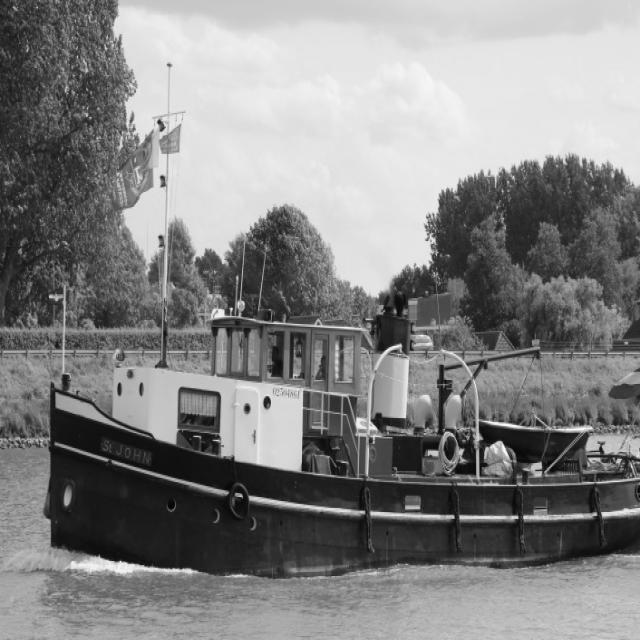tugboat: (41, 278, 640, 594)
